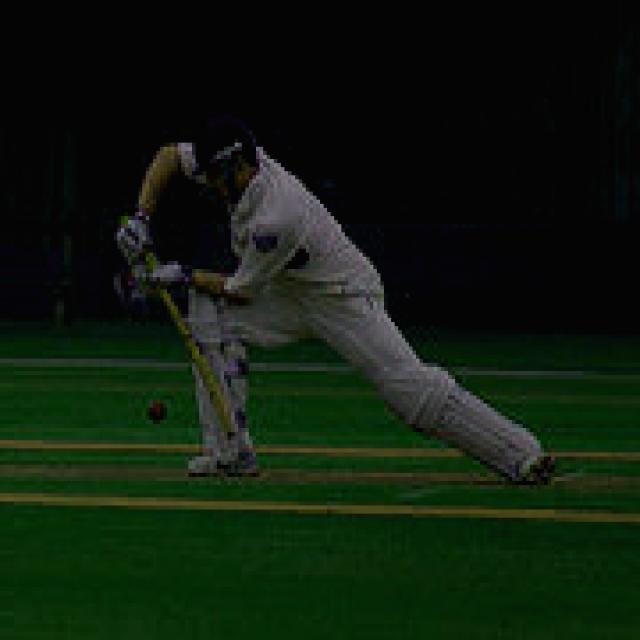toe: (203, 373, 248, 440)
